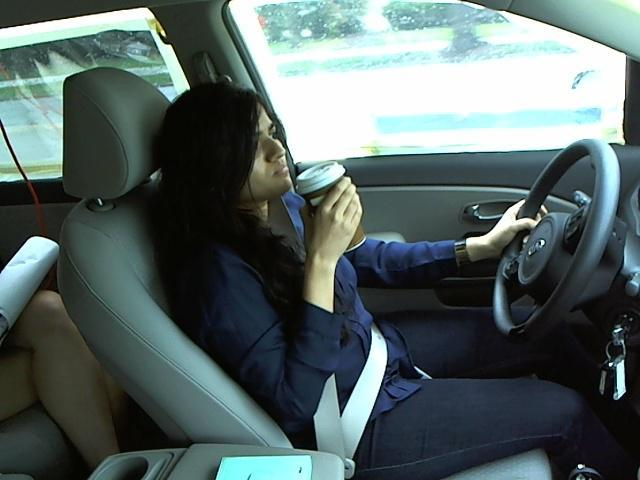Drinking: (208, 99, 366, 261)
